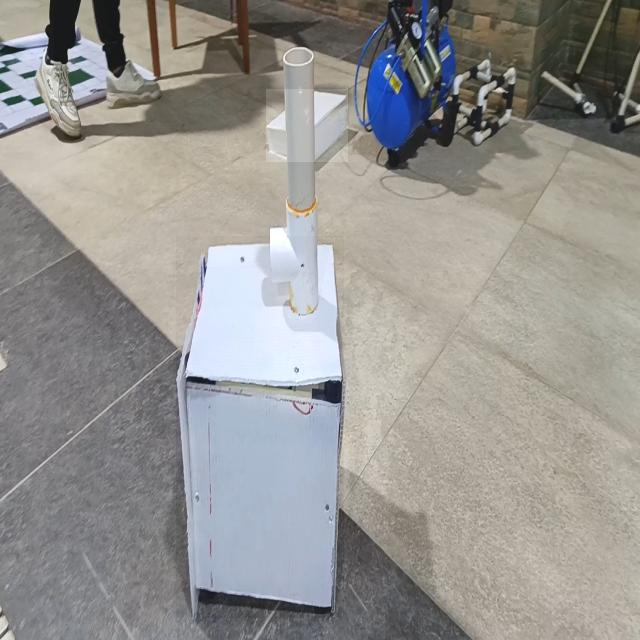Cube: (176, 236, 344, 618)
Cuboid: (266, 89, 348, 162)
